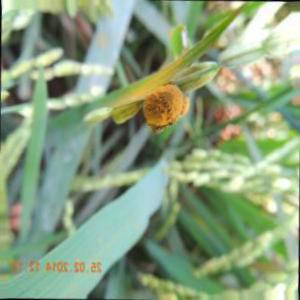Leaf_Scald: (148, 84, 192, 124)
